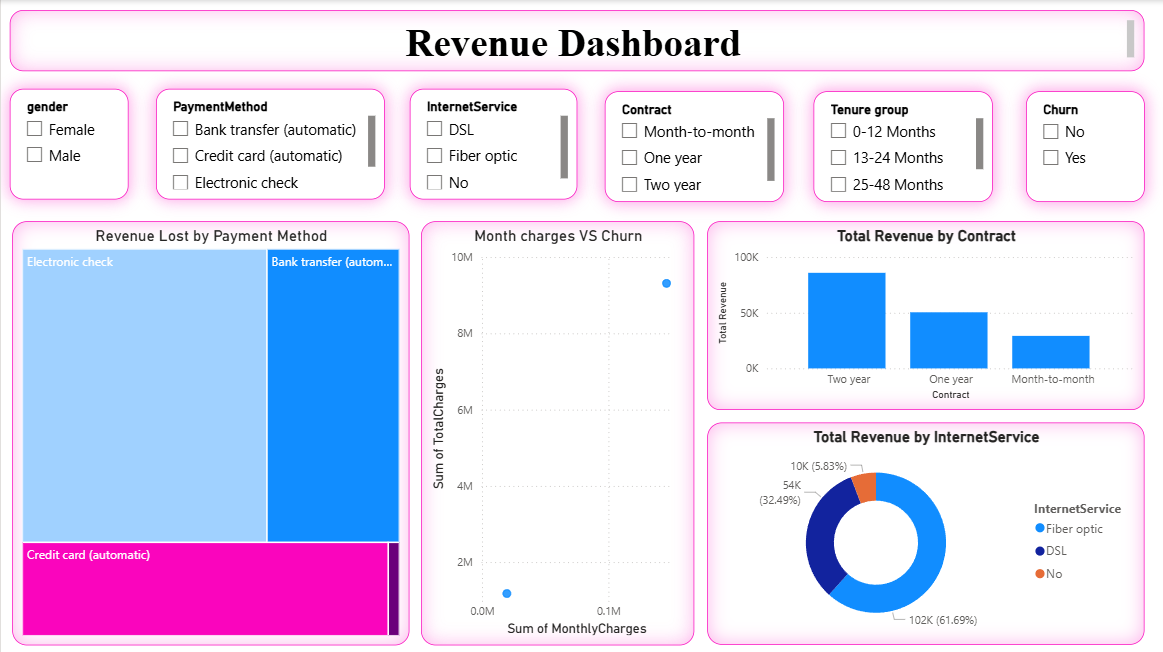

The page's visual inventory and layout, read from the dashboard file:
{"tool":"powerbi","page":{"name":"Page 4","canvas":[1280,720],"ordinal":3},"visuals":[{"type":"textbox","box":[10,11.4,1245.7,67.1],"z":0},{"type":"scatterChart","title":"Month charges VS  Churn","fields":{"X":["Sum(Telecom.MonthlyCharges)"],"Y":["Sum(Telecom.TotalCharges)"],"Category":["Telecom.Churn"]},"box":[461.4,242.9,300,465.7],"z":1000},{"type":"columnChart","fields":{"Category":["Telecom.Contract"],"Y":["Telecom.Total Revenue"]},"box":[775.7,242.9,480,207.1],"z":2000},{"type":"donutChart","fields":{"Category":["Telecom.InternetService"],"Y":["Telecom.Total Revenue"]},"box":[775.7,464.3,480,244.3],"z":3000},{"type":"treemap","title":"Revenue Lost by Payment Method","fields":{"Group":["Telecom.PaymentMethod"],"Values":["Telecom.Revenue Lost"]},"box":[12.9,242.9,435.7,465.7],"z":4000},{"type":"slicer","fields":{"Values":["Telecom.gender"]},"box":[10,97.1,130,121.4],"z":5000},{"type":"slicer","fields":{"Values":["Telecom.PaymentMethod"]},"box":[170,97.1,251.4,121.4],"z":6000},{"type":"slicer","fields":{"Values":["Telecom.InternetService"]},"box":[448.6,97.1,184.3,121.4],"z":7000},{"type":"slicer","fields":{"Values":["Telecom.Contract"]},"box":[662.9,100,197.1,121.4],"z":8000},{"type":"slicer","fields":{"Values":["Telecom.Tenure group"]},"box":[891.4,100,197.1,121.4],"z":9000},{"type":"slicer","fields":{"Values":["Telecom.Churn"]},"box":[1125.7,100,130,121.4],"z":10000}]}

Visuals, with their boxes in screenshot pixels (x1, y1, x2, y2), scaled from the page's 1280x720 canvas onto the 1163x652 screenshot:
textbox: detection(9, 10, 1141, 71)
"Month charges VS  Churn" scatterChart: detection(419, 220, 692, 642)
columnChart - Telecom.Contract x Telecom.Total Revenue: detection(705, 220, 1141, 408)
donutChart - Telecom.InternetService x Telecom.Total Revenue: detection(705, 420, 1141, 642)
"Revenue Lost by Payment Method" treemap: detection(12, 220, 408, 642)
slicer - Telecom.gender: detection(9, 88, 127, 198)
slicer - Telecom.PaymentMethod: detection(154, 88, 383, 198)
slicer - Telecom.InternetService: detection(408, 88, 575, 198)
slicer - Telecom.Contract: detection(602, 91, 781, 200)
slicer - Telecom.Tenure group: detection(810, 91, 989, 200)
slicer - Telecom.Churn: detection(1023, 91, 1141, 200)
